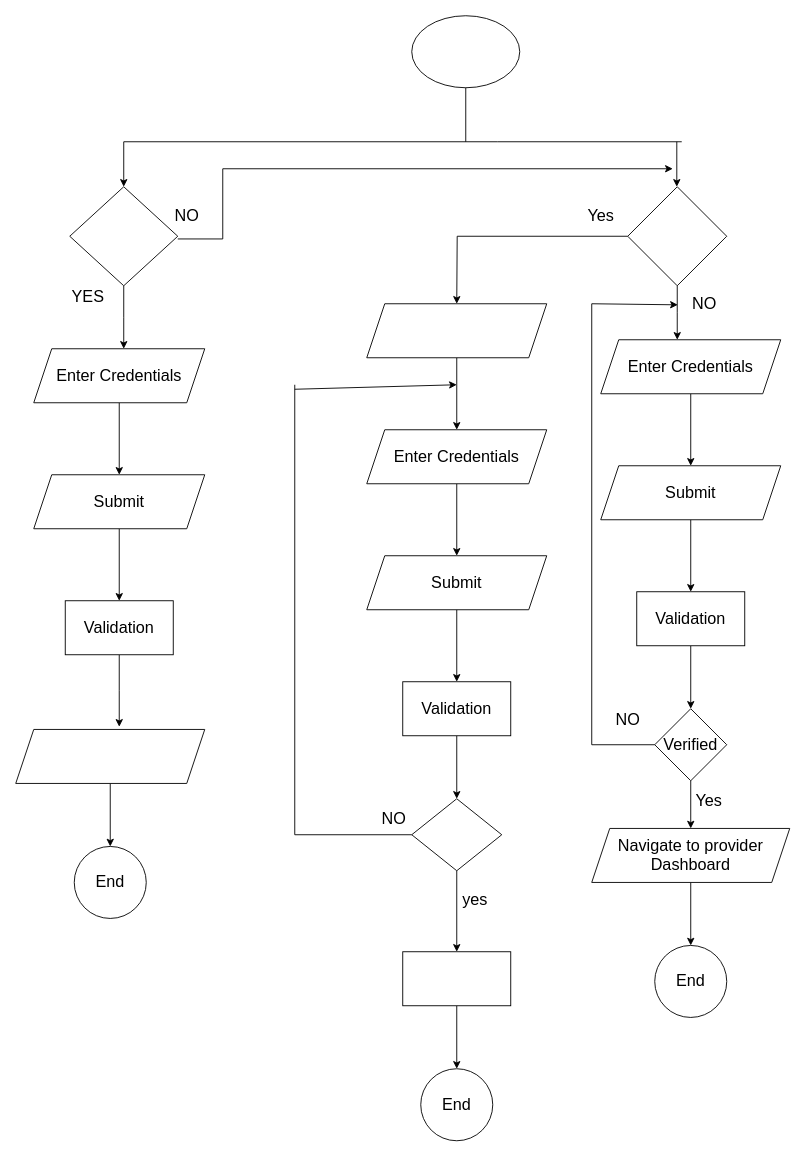
Some shapes in this 806 by 1157 pixel diagram are drawn without their labels. The centre of each missing label's shape, as x and y in pixels:
Is Admin ?: the point at 123,236
Navigate to Admin Dashboard: the point at 110,756
Navigate to Sign up Screen: the point at 456,330
New Provider: the point at 677,236
Start: the point at 465,51
Success: the point at 456,834
Verification Process: the point at 456,978
